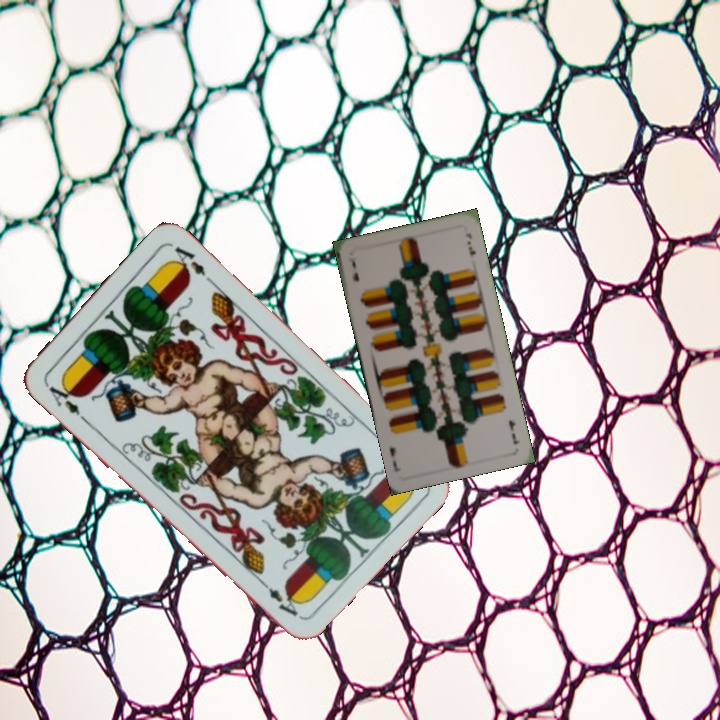E7: (344, 253, 362, 284), (504, 416, 522, 447)
EA: (40, 376, 88, 424)
